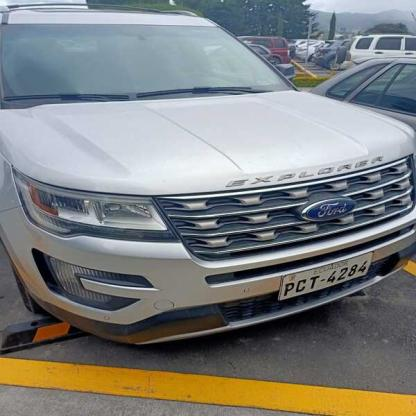Placa: (275, 245, 374, 306)
